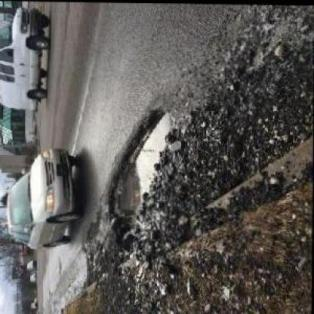Hueco: (105, 106, 174, 228), (83, 210, 103, 245)
